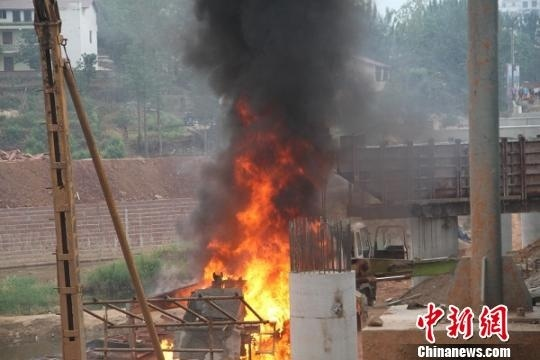fire: (184, 104, 324, 345)
